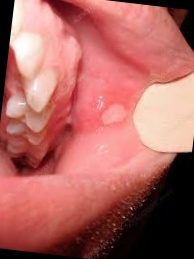Ulcer: (96, 98, 130, 131)
